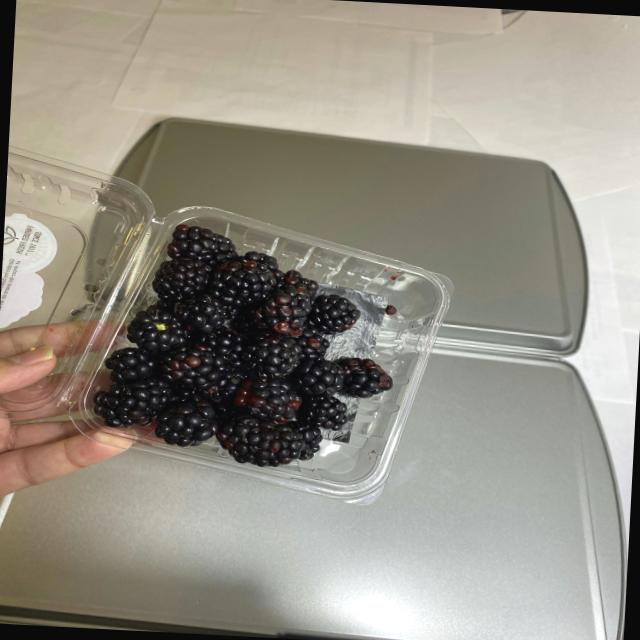blackberries: (138, 206, 402, 480)
